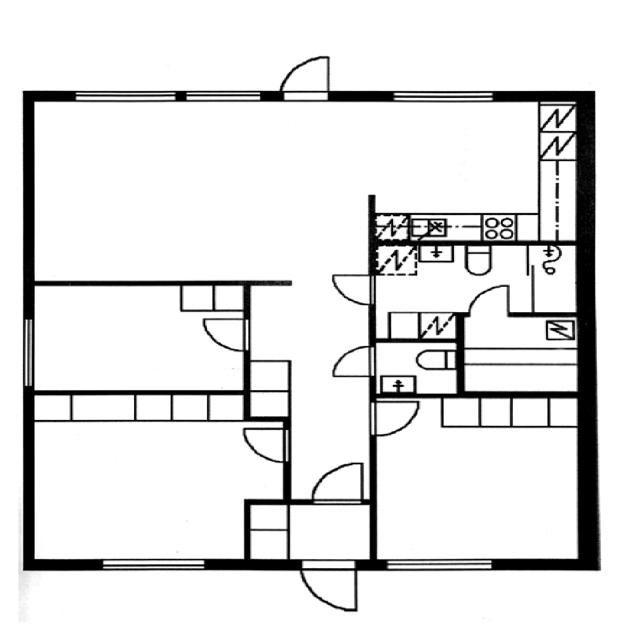door: (296, 559, 362, 615), (275, 52, 338, 100), (306, 459, 370, 504), (194, 314, 256, 354), (237, 425, 294, 465), (366, 397, 423, 437), (323, 270, 382, 308), (462, 280, 516, 320), (327, 343, 379, 381)
window: (92, 554, 214, 576), (380, 554, 497, 574), (384, 88, 501, 108), (67, 86, 183, 106), (15, 316, 41, 391), (181, 87, 267, 104)
zone: (29, 96, 588, 284), (23, 401, 292, 567), (368, 394, 589, 564), (26, 282, 249, 401), (366, 242, 575, 326), (457, 313, 586, 397), (245, 502, 376, 566), (369, 341, 462, 395)
